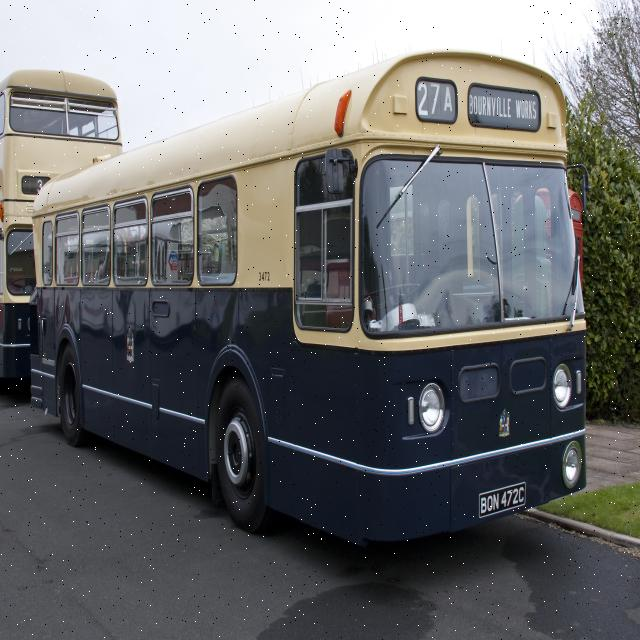Bus: (31, 50, 583, 533), (1, 69, 119, 378)
